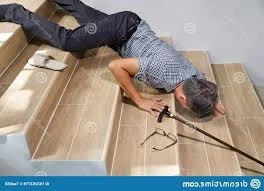fall: (2, 1, 232, 119)
